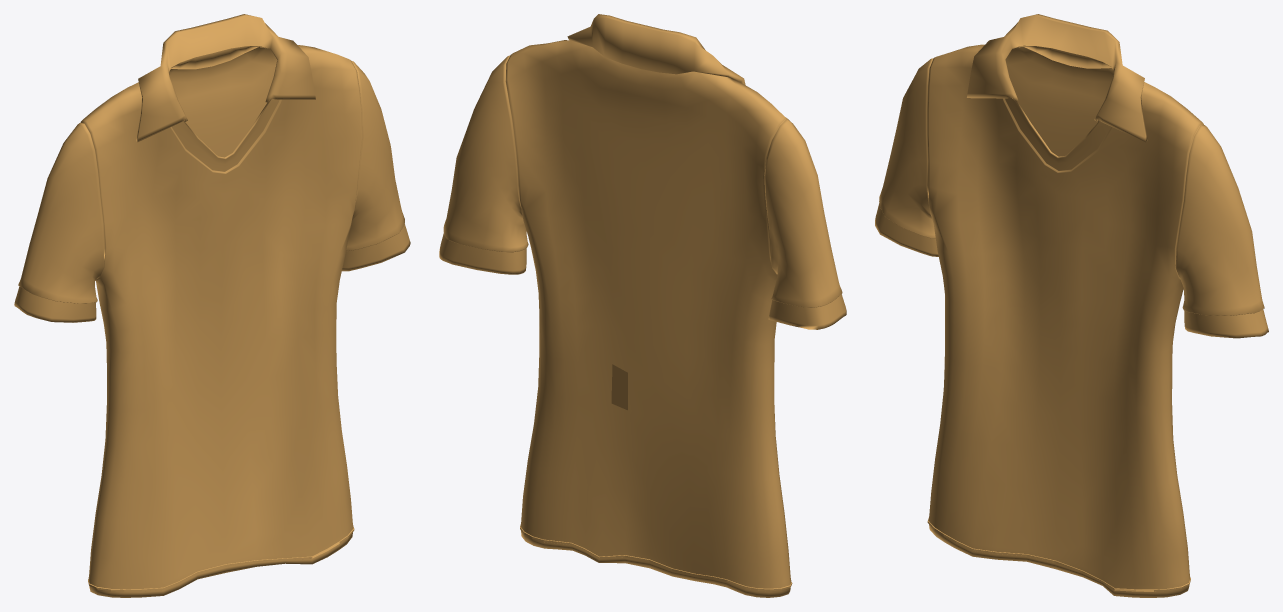
File: T_ShirtB.fbx
3 views of the same model, side by side, from view 1: azimuth 30°, elevation 25°; view 2: azimuth 150°, elevation 25°; view 3: azimuth 330°, elevation 25° (orthographic). The views are drawn at different scales.
Parts seen in each view (by area): view 1: T_ShirtB; view 2: T_ShirtB; view 3: T_ShirtB.
Part boxes in pixels (bbox=[...]): T_ShirtB: bbox=[14, 14, 410, 597]; T_ShirtB: bbox=[439, 14, 846, 597]; T_ShirtB: bbox=[875, 14, 1268, 597].
Size of the model in its own units: 65.14 by 85.75 by 12.16.
